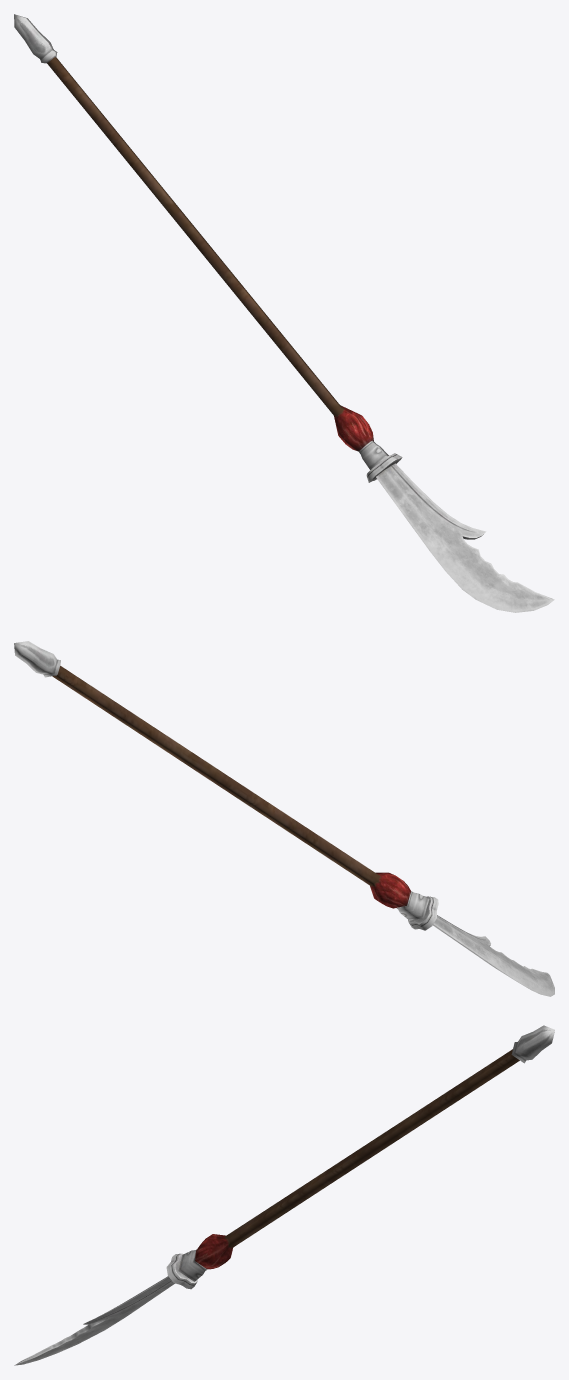
File: rider-weapon-slice-bronzeweapons.glb
3 views of the same model, one above another, from view 1: azimuth 90°, elevation 25°; view 2: azimuth 150°, elevation 25°; view 3: azimuth 270°, elevation 25° (orthographic).
Bounding box in the file's own units: 1.23 × 1.88 × 1.99.
1 material, 1 textured.
